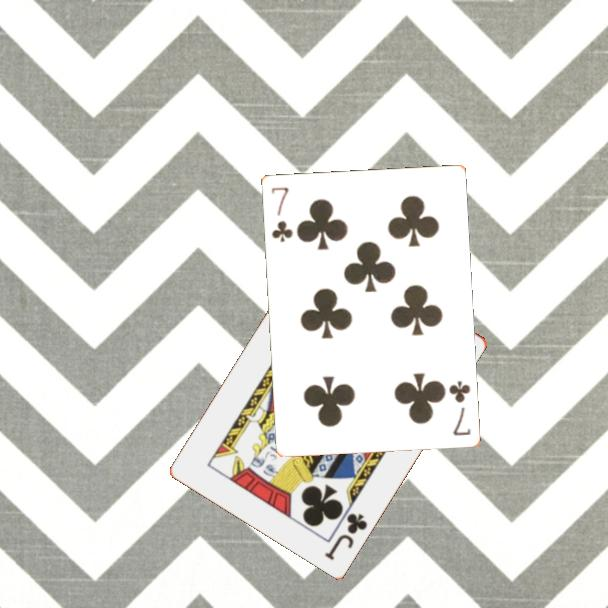c07: (445, 377, 473, 438), (268, 183, 295, 244)
c11: (321, 509, 370, 563)
